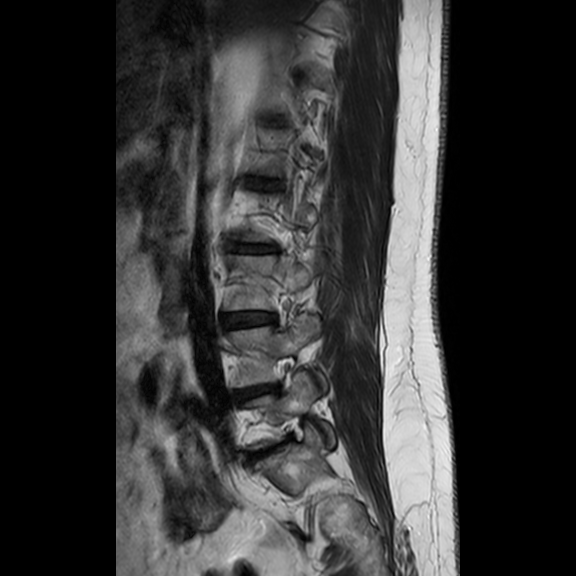RFS0: (264, 348, 306, 399)
